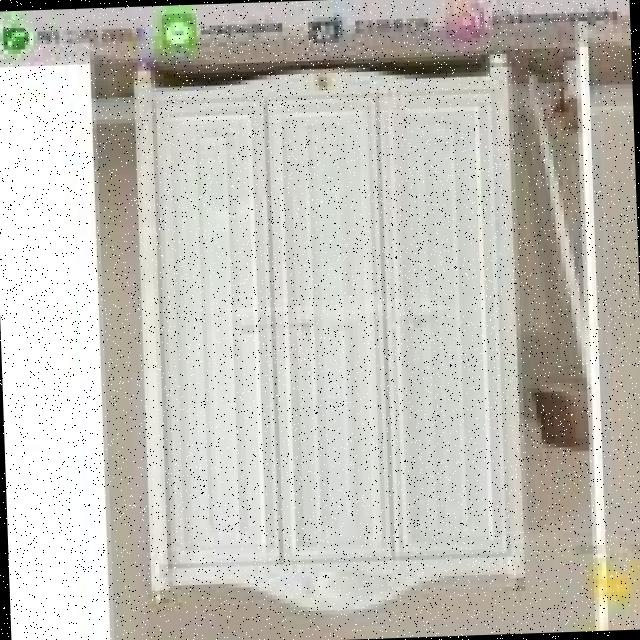Closet: (124, 45, 537, 620)
